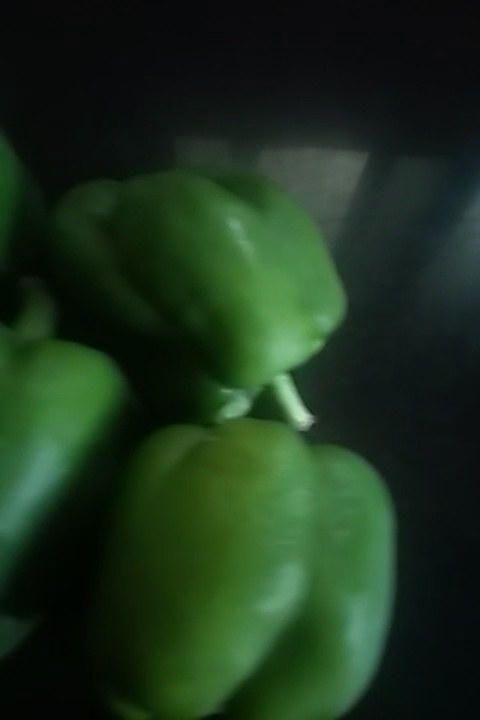capsicum: (77, 429, 407, 714), (51, 163, 337, 422), (3, 328, 118, 623)
